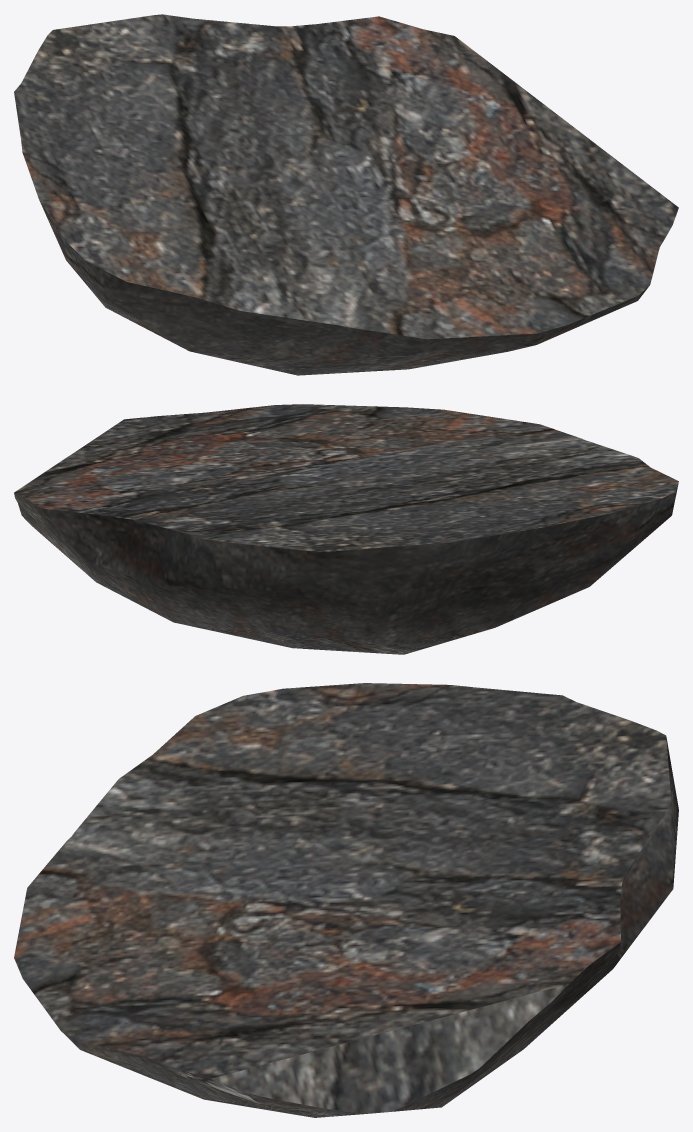
File: SM_HarvestRock_Remnant.fbx
3 renders of one model, top to bottom at view 1: azimuth 30°, elevation 25°; view 2: azimuth 150°, elevation 25°; view 3: azimuth 270°, elevation 25°, orthographic. The views are drawn at different scales.
Parts seen in each view (by area): view 1: SM_HarvestRock_Remnant; view 2: SM_HarvestRock_Remnant; view 3: SM_HarvestRock_Remnant.
Boxes of the visible parts, x1=… form: SM_HarvestRock_Remnant: x1=14, y1=14, x2=678, y2=375; SM_HarvestRock_Remnant: x1=14, y1=404, x2=678, y2=654; SM_HarvestRock_Remnant: x1=14, y1=683, x2=678, y2=1117.
Size of the model in its own units: 145 by 135 by 49.78.
2 materials, 2 textured.
